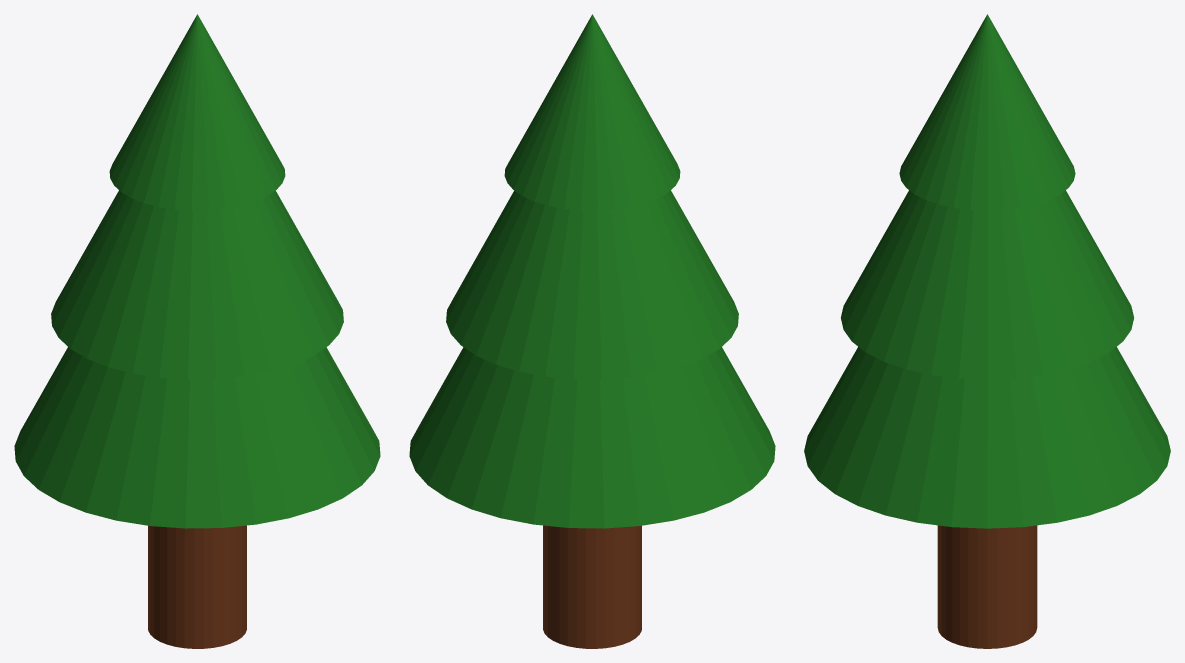
File: tree.fbx
3 views of the same model, side by side, from view 1: azimuth 30°, elevation 25°; view 2: azimuth 150°, elevation 25°; view 3: azimuth 270°, elevation 25° (orthographic).
Visible parts, largest first — view 1: Cone; view 2: Cone; view 3: Cone.
Boxes of the visible parts, x1=… form: Cone: x1=14, y1=14, x2=380, y2=648; Cone: x1=409, y1=14, x2=775, y2=648; Cone: x1=804, y1=14, x2=1170, y2=648.
Size of the model in its own units: 200 by 369 by 200.
